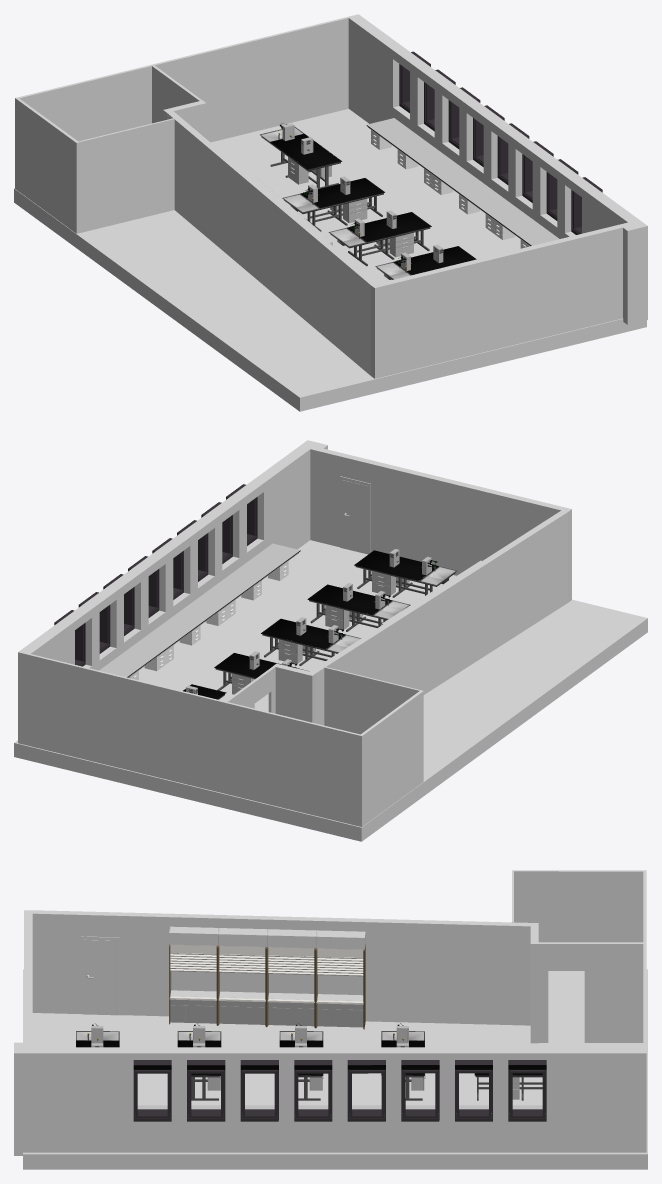
The picture shows the model from 3 angles, top to bottom: view 1: azimuth 30°, elevation 25°; view 2: azimuth 150°, elevation 25°; view 3: azimuth 270°, elevation 25°; orthographic projection. The views are drawn at different scales.
Parts seen in each view (by area): view 1: Tafels.002; view 2: Tafels.002; view 3: Tafels.002.
Boxes of the visible parts, box(x1,y1,x2,y2) form: Tafels.002: box(14, 14, 647, 411); Tafels.002: box(14, 440, 647, 841); Tafels.002: box(14, 870, 647, 1169).
Size of the model in its own units: 14.02 by 3.98 by 19.92.
Materials: 11 (5 with a texture image).
